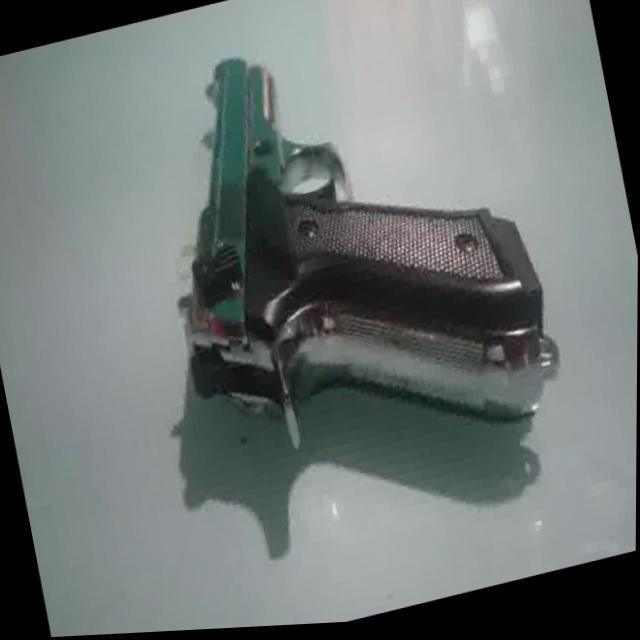weapon: (131, 0, 570, 502)
